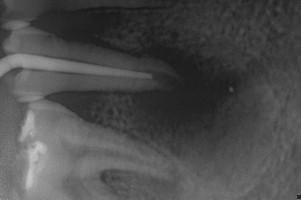Furcation Involvement: (132, 45, 242, 125)
